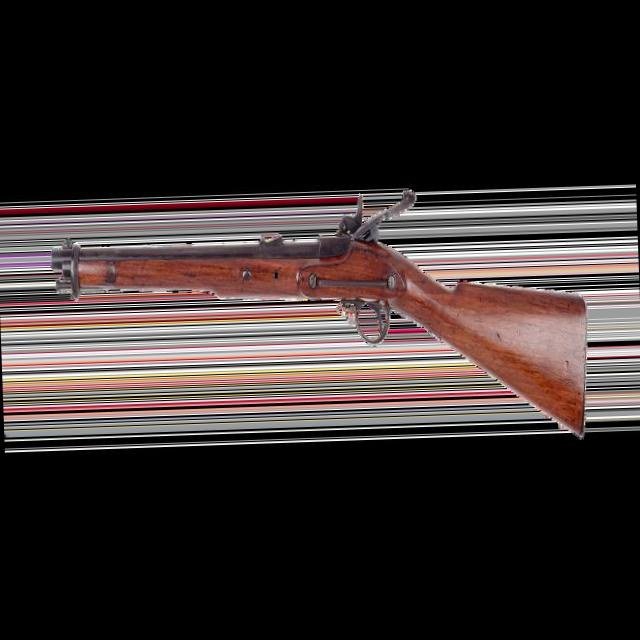Gun: (52, 190, 587, 434)
